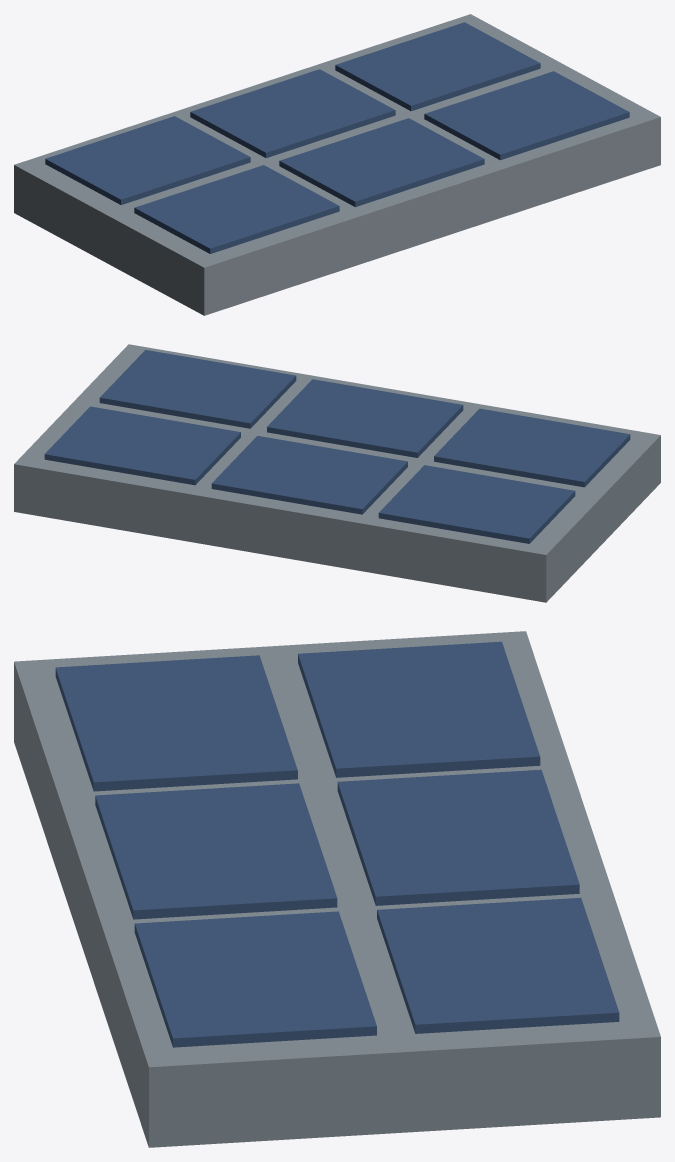
File: DS_SolarDebris.glb
3 renders of one model, top to bottom at view 1: azimuth 30°, elevation 25°; view 2: azimuth 150°, elevation 25°; view 3: azimuth 270°, elevation 25°, orthographic. The views are drawn at different scales.
Visible parts, largest first — view 1: DS_SolarDebris; view 2: DS_SolarDebris; view 3: DS_SolarDebris.
Boxes of the visible parts, x1,y1,x2,y2 form: DS_SolarDebris: [14, 14, 660, 315]; DS_SolarDebris: [14, 344, 660, 602]; DS_SolarDebris: [14, 631, 660, 1147].
Bounding box in the file's own units: 12.77 × 1.23 × 8.01.
1 material, 1 textured.
